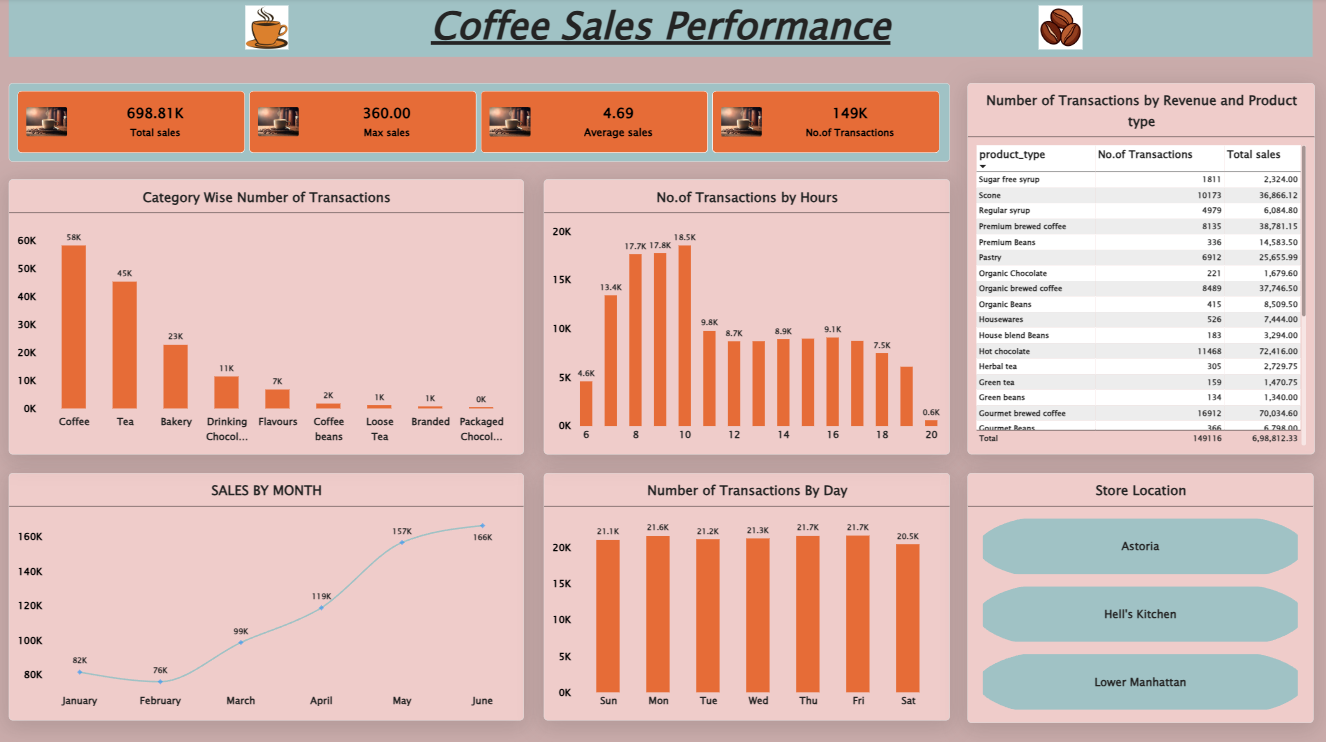

Layout of this report page (visuals, bound fields, positions):
{"tool":"powerbi","page":{"name":"Page 1","canvas":[2560,1440],"ordinal":0},"visuals":[{"type":"textbox","box":[16.9,0,2516.6,113.4],"z":0},{"type":"lineChart","title":"SALES BY MONTH","fields":{"Category":["Calender table.month name","Calender table.year"],"Y":["Measure table.Total sales"]},"box":[16.9,916.9,994.1,477.8],"z":1000},{"type":"columnChart","title":"Number of Transactions By Day","fields":{"Category":["Calender table.Day name"],"Y":["Measure table.No.of Transactions"]},"box":[1049.6,916.9,784.2,477.8],"z":2000},{"type":"columnChart","title":"Category Wise Number of Transactions","fields":{"Category":["Product Table.product_category"],"Y":["Measure table.No.of Transactions"]},"box":[16.9,349.9,994.1,530.8],"z":3000},{"type":"clusteredColumnChart","fields":{"Category":["Transaction Table.Hours"],"Y":["Measure table.No.of Transactions"]},"box":[1049.6,349.9,784.2,530.8],"z":4000},{"type":"tableEx","title":"Number of Transactions by Revenue and Product type","fields":{"Values":["Product Table.product_type","Measure table.No.of Transactions","Measure table.Total sales"]},"box":[1867.6,164.1,670.8,716.6],"z":5000},{"type":"advancedSlicerVisual","title":"Store Location","fields":{"Values":["Store Table.store_location"]},"box":[1867.6,916.9,668.4,482.6],"z":6000},{"type":"cardVisual","fields":{"Data":["Measure table.Total sales","Measure table.Max sales","Measure table.Average sales","Measure table.No.of Transactions"]},"box":[16.9,164.1,1816.9,152],"z":7000},{"type":"image","box":[429.5,14.5,171.3,84.5],"z":8000},{"type":"image","box":[1961.7,14.5,171.3,84.5],"z":9000}]}

Visuals, with their boxes in screenshot pixels (x1, y1, x2, y2), scaled from the page's 2560x1440 canvas onto the 1326x742 screenshot:
textbox: pyautogui.locateOnScreen(9, 0, 1312, 58)
"SALES BY MONTH" lineChart: pyautogui.locateOnScreen(9, 472, 524, 719)
"Number of Transactions By Day" columnChart: pyautogui.locateOnScreen(544, 472, 950, 719)
"Category Wise Number of Transactions" columnChart: pyautogui.locateOnScreen(9, 180, 524, 454)
clusteredColumnChart - Transaction Table.Hours x Measure table.No.of Transactions: pyautogui.locateOnScreen(544, 180, 950, 454)
"Number of Transactions by Revenue and Product type" tableEx: pyautogui.locateOnScreen(967, 85, 1315, 454)
"Store Location" advancedSlicerVisual: pyautogui.locateOnScreen(967, 472, 1314, 721)
cardVisual - Measure table.Total sales x Measure table.Max sales: pyautogui.locateOnScreen(9, 85, 950, 163)
image: pyautogui.locateOnScreen(222, 7, 311, 51)
image: pyautogui.locateOnScreen(1016, 7, 1105, 51)
